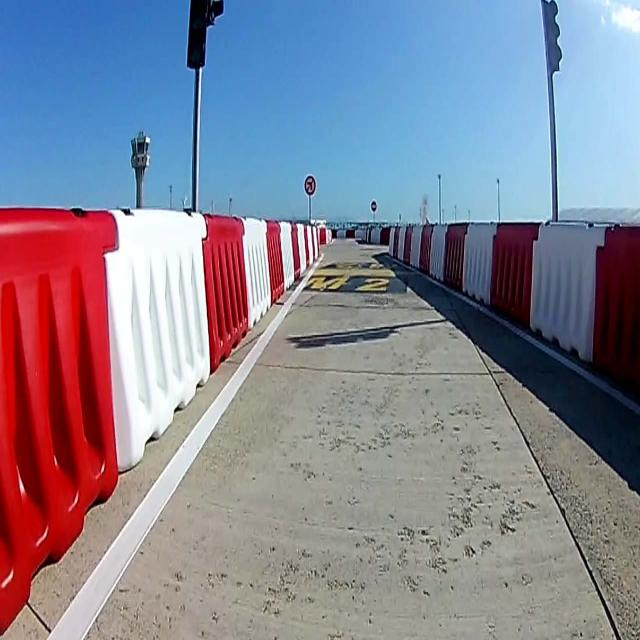girisyok: (371, 201, 377, 211)
soladonulmez: (304, 175, 316, 195)
